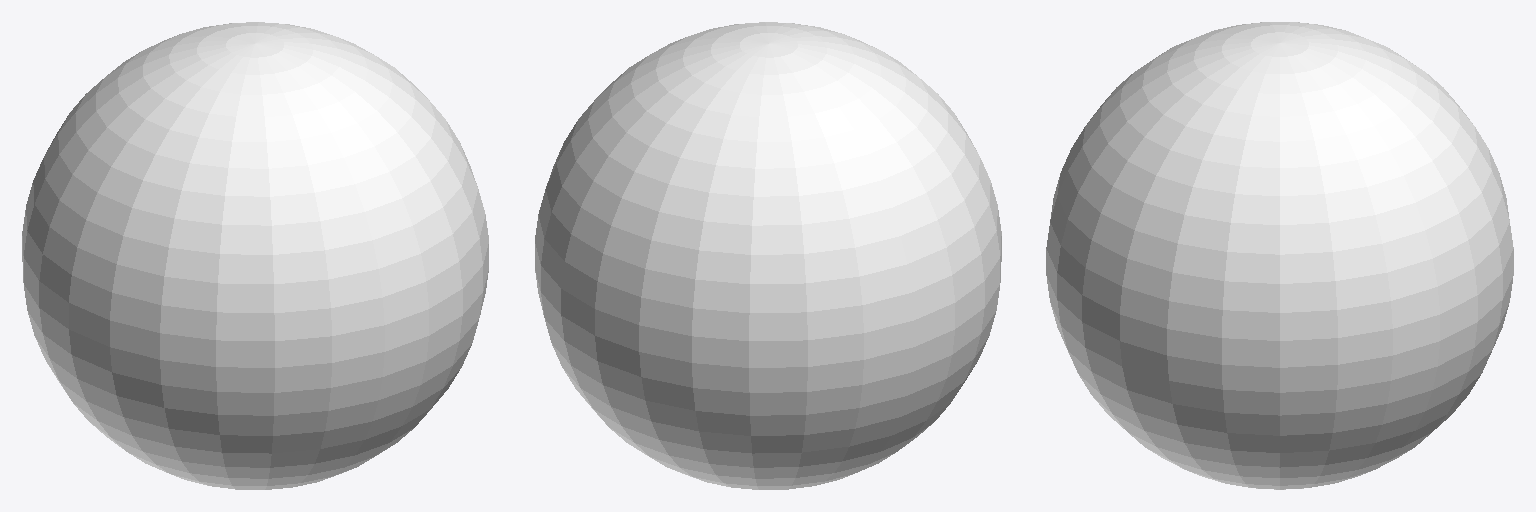
The model's file is mars.obj.
3 views of the same model, side by side, from view 1: azimuth 30°, elevation 25°; view 2: azimuth 150°, elevation 25°; view 3: azimuth 270°, elevation 25° (orthographic).
Parts seen in each view (by area): view 1: mars; view 2: mars; view 3: mars.
Part boxes in pixels (bbox=[...]): mars: bbox=[22, 22, 488, 489]; mars: bbox=[535, 22, 1001, 489]; mars: bbox=[1046, 22, 1513, 489].
Size of the model in its own units: 38.71 by 38.94 by 38.78.